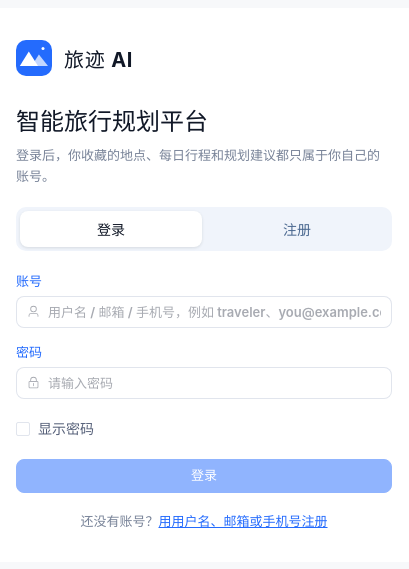
LoginView › shows the backend message when the backend refuses
Type "traveler" into the field named "identifier".
click(214, 312); type("traveler")  # box [48,297,381,327]
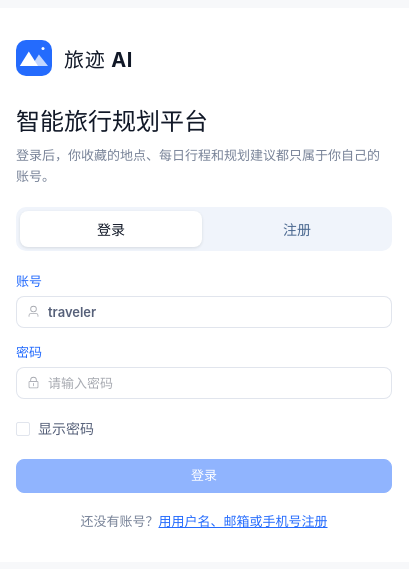
Type "wrong-password" into the password field named "password".
click(214, 383); type("wrong-password")  # box [48,368,381,398]
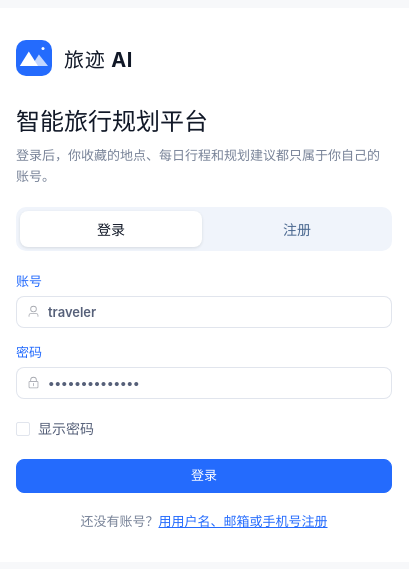
Submit the form, box [16,271,392,493]
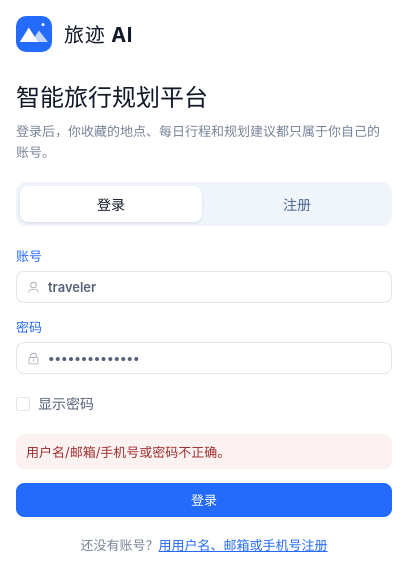
Result: the message "用户名/邮箱/手机号或密码不正确。" is shown at [16,434,392,469]
